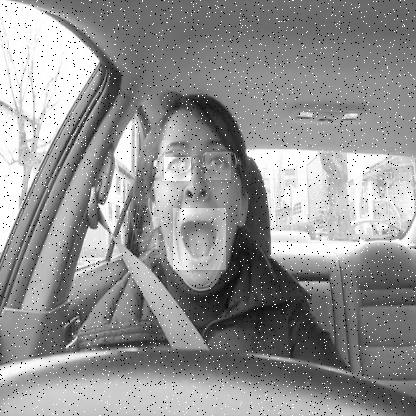seatbelt: (116, 73, 268, 351)
